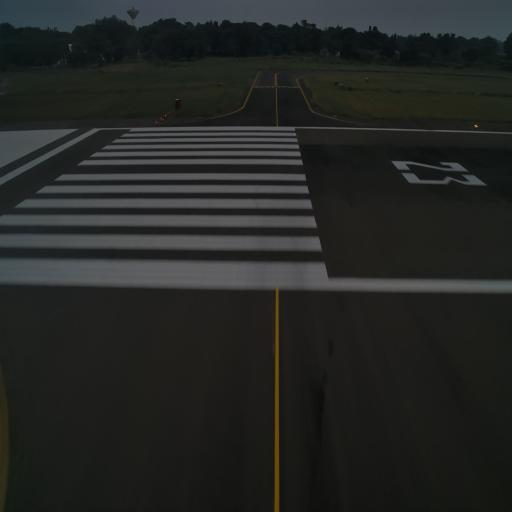on: (473, 121, 479, 131)
